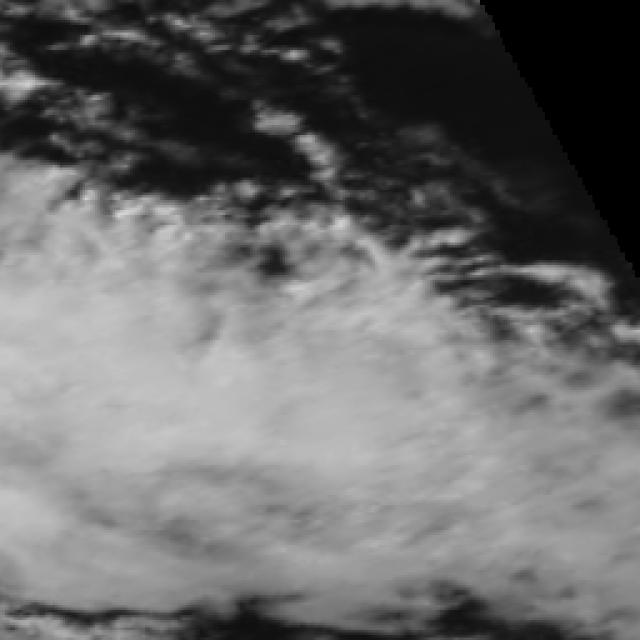CB: (1, 349, 452, 484)
